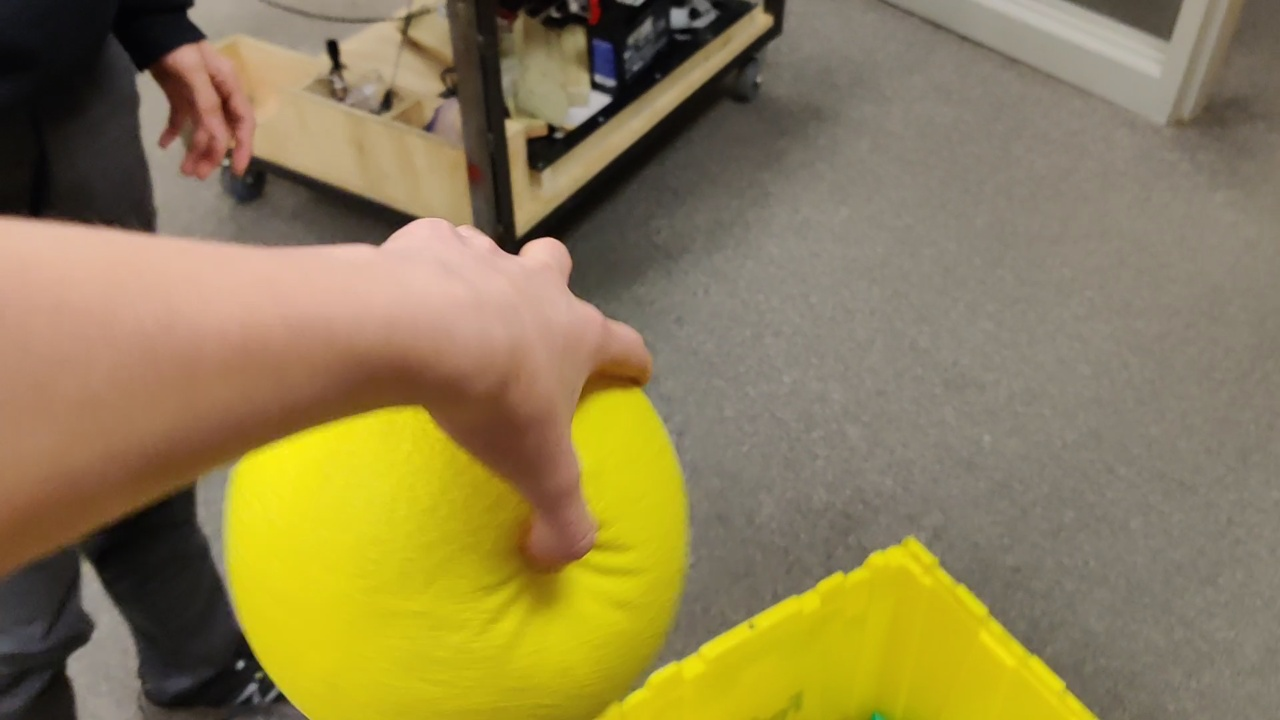Ball: (223, 364, 685, 718)
